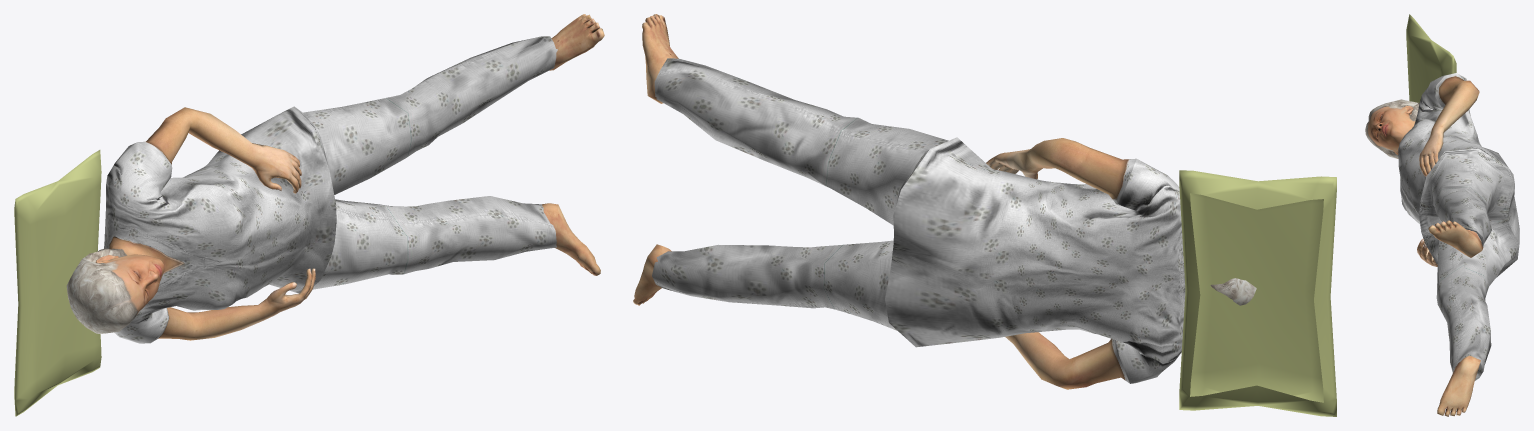
Rendered from patient_female.obj.
3 renders of one model, left to right at view 1: azimuth 30°, elevation 25°; view 2: azimuth 150°, elevation 25°; view 3: azimuth 270°, elevation 25°, orthographic. The views are drawn at different scales.
Visible parts, largest first — view 1: patient; view 2: patient; view 3: patient.
Part boxes in pixels (x1=…): patient: x1=14, y1=14, x2=604, y2=416; patient: x1=633, y1=14, x2=1336, y2=416; patient: x1=1365, y1=14, x2=1519, y2=416.
Size of the model in its own units: 1.64 by 0.6711 by 0.4797.
Materials: 2 (1 with a texture image).
